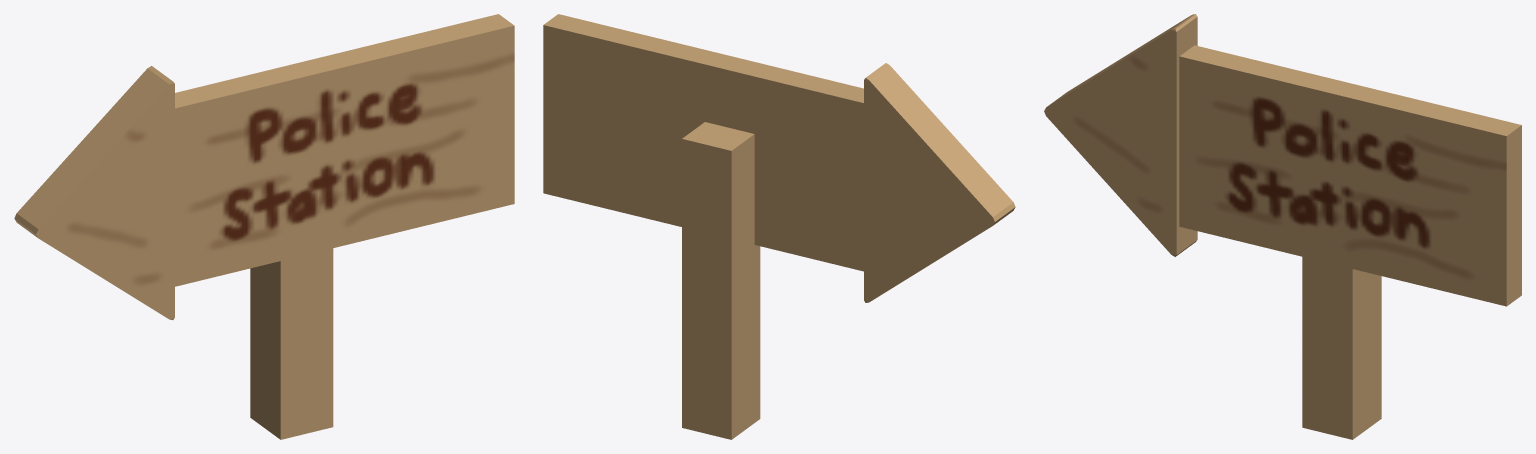
Rendered from sign2.fbx.
3 views of the same model, side by side, from view 1: azimuth 30°, elevation 25°; view 2: azimuth 150°, elevation 25°; view 3: azimuth 330°, elevation 25° (orthographic). The views are drawn at different scales.
Parts seen in each view (by area): view 1: sign2; view 2: sign2; view 3: sign2.
Boxes of the visible parts, <box> form: sign2: <box>14,14,514,439</box>; sign2: <box>543,14,1015,439</box>; sign2: <box>1044,14,1521,439</box>.
Size of the model in its own units: 187 by 148 by 29.19.
